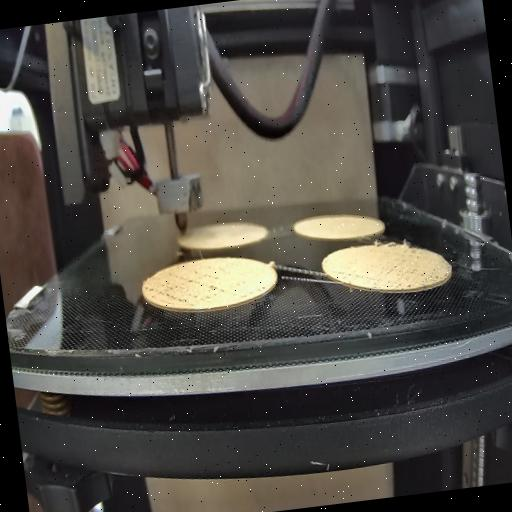under_extrusion: (144, 265, 226, 310), (382, 250, 440, 288), (330, 263, 374, 289), (237, 280, 273, 304)
